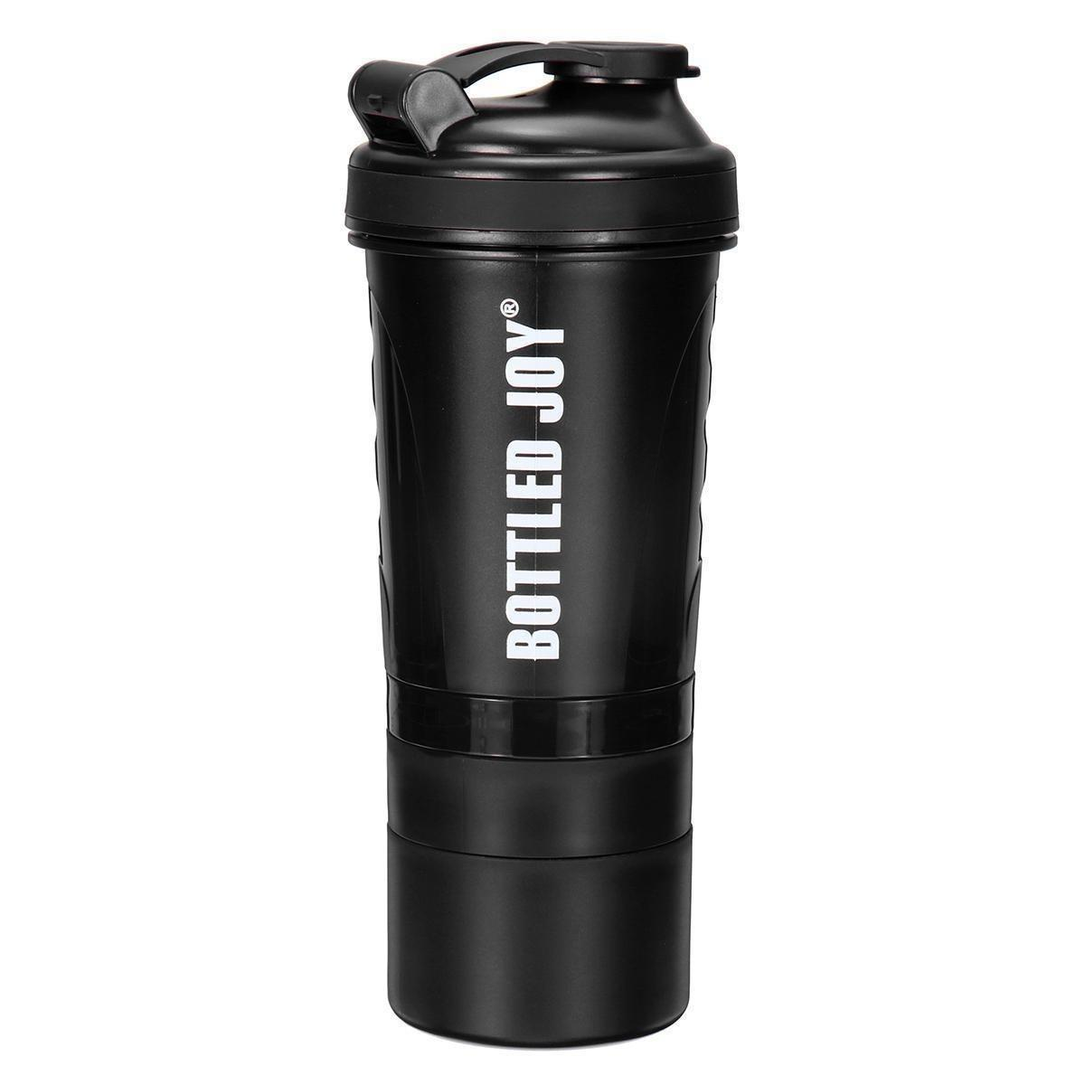gym bottle: (335, 27, 745, 1058)
